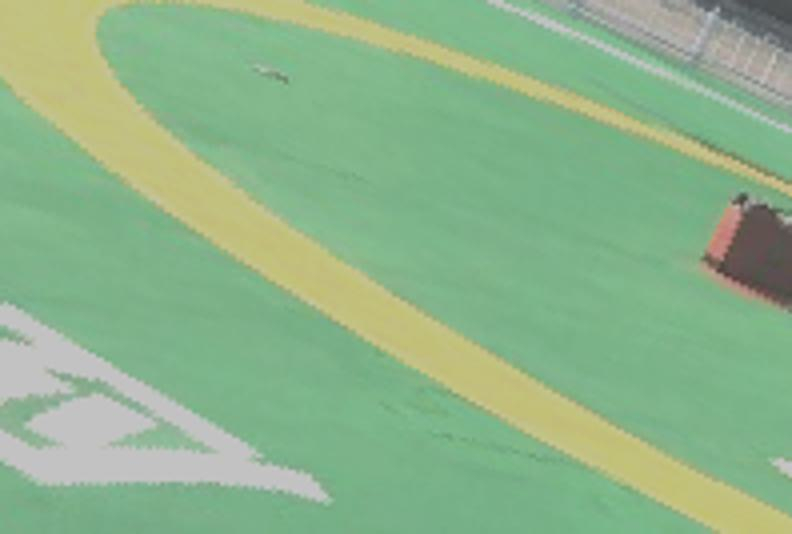Apron: (1, 1, 792, 529)
